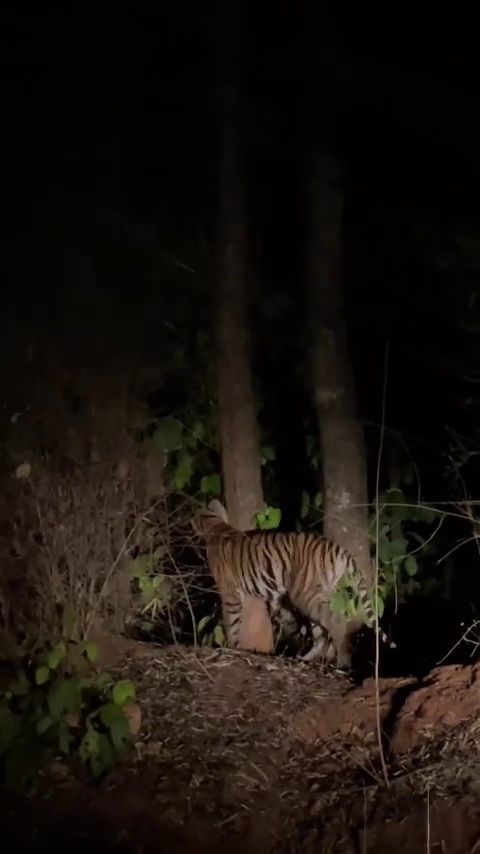Tiger: (184, 496, 399, 669)
